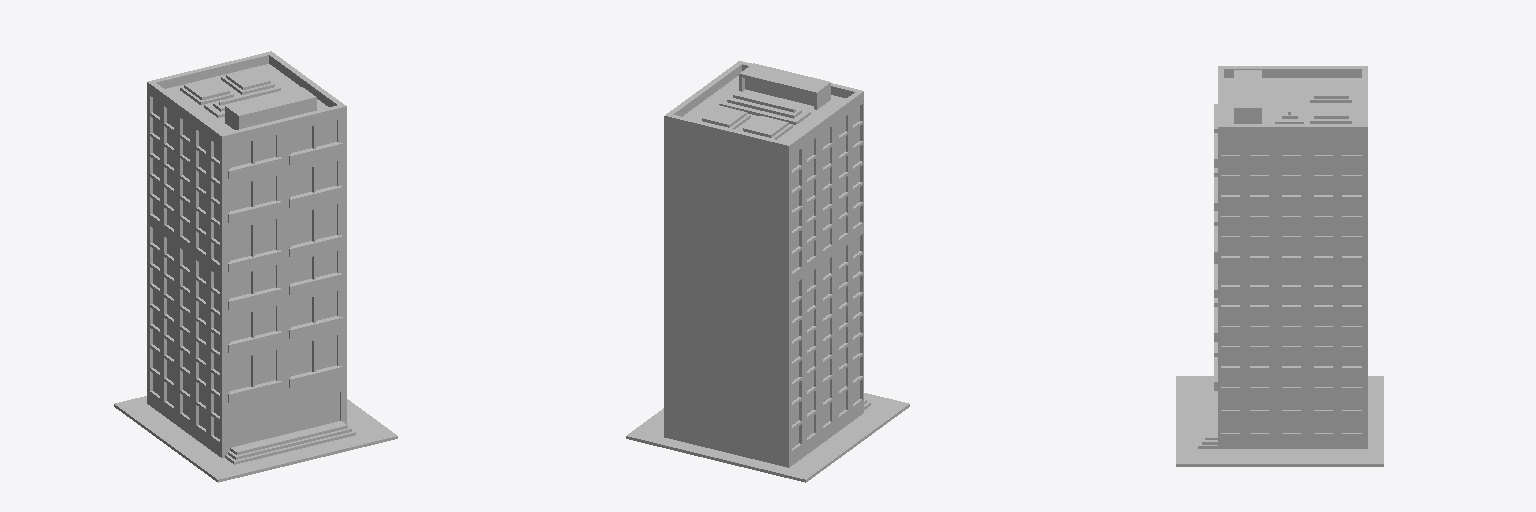
File: building3.obj
3 renders of one model, left to right at view 1: azimuth 30°, elevation 25°; view 2: azimuth 150°, elevation 25°; view 3: azimuth 270°, elevation 25°, orthographic.
Visible parts, largest first — view 1: object 1; view 2: object 1; view 3: object 1.
Boxes of the visible parts, x1=… form: object 1: x1=114, y1=51, x2=397, y2=482; object 1: x1=626, y1=61, x2=909, y2=482; object 1: x1=1176, y1=66, x2=1383, y2=466.
Size of the model in its own units: 6.5 by 11.5 by 6.5.